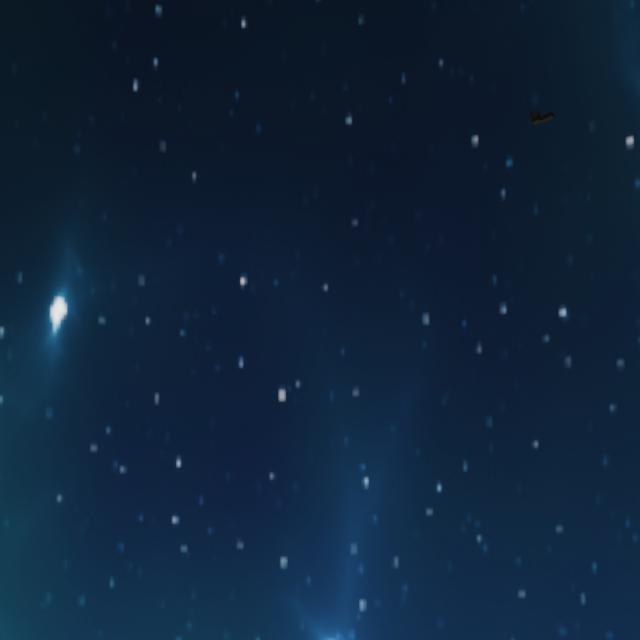large_debris: (523, 101, 556, 130)
